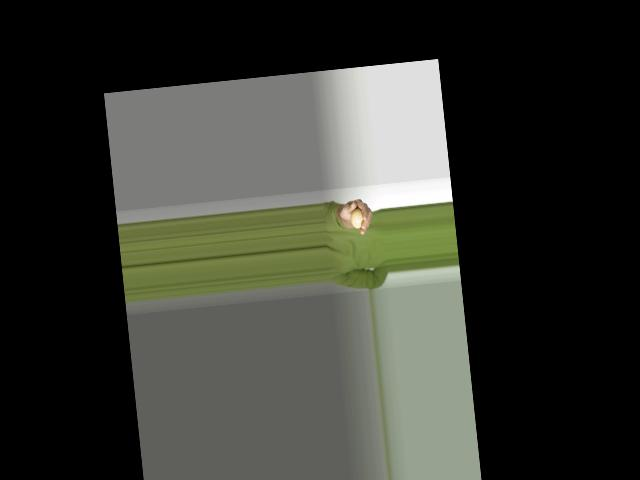egg: (350, 208, 364, 229)
